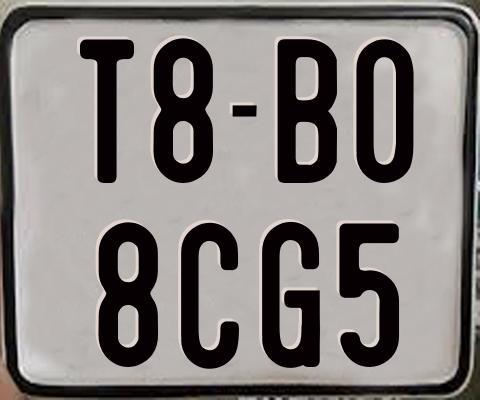0: (356, 36, 419, 186)
5: (337, 222, 400, 369)
8: (151, 38, 214, 184), (96, 221, 159, 367)
B: (278, 36, 337, 180)
C: (178, 222, 240, 370)
G: (260, 222, 318, 368)
T: (78, 37, 134, 184)
